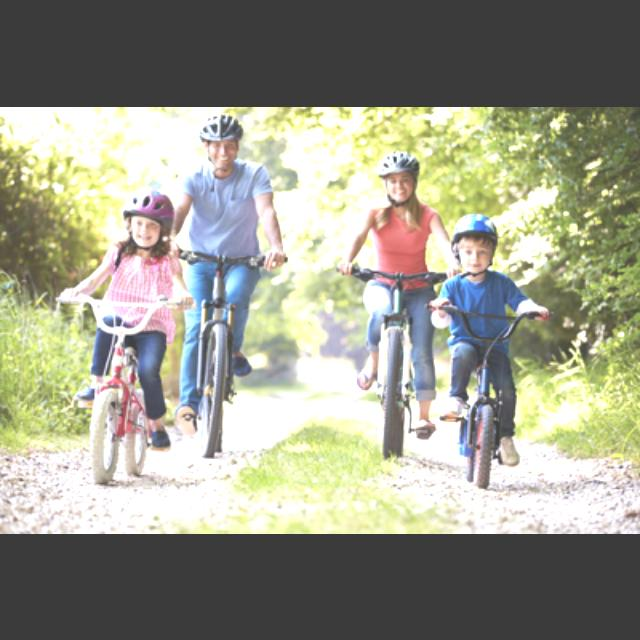With Helmet: (122, 183, 176, 247), (194, 113, 252, 167), (450, 212, 500, 270), (374, 148, 422, 204)
